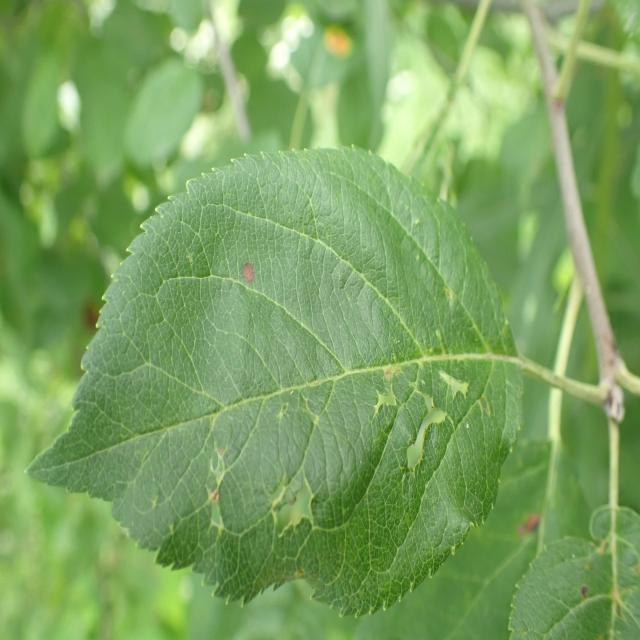Black Rot: (231, 254, 266, 300)
